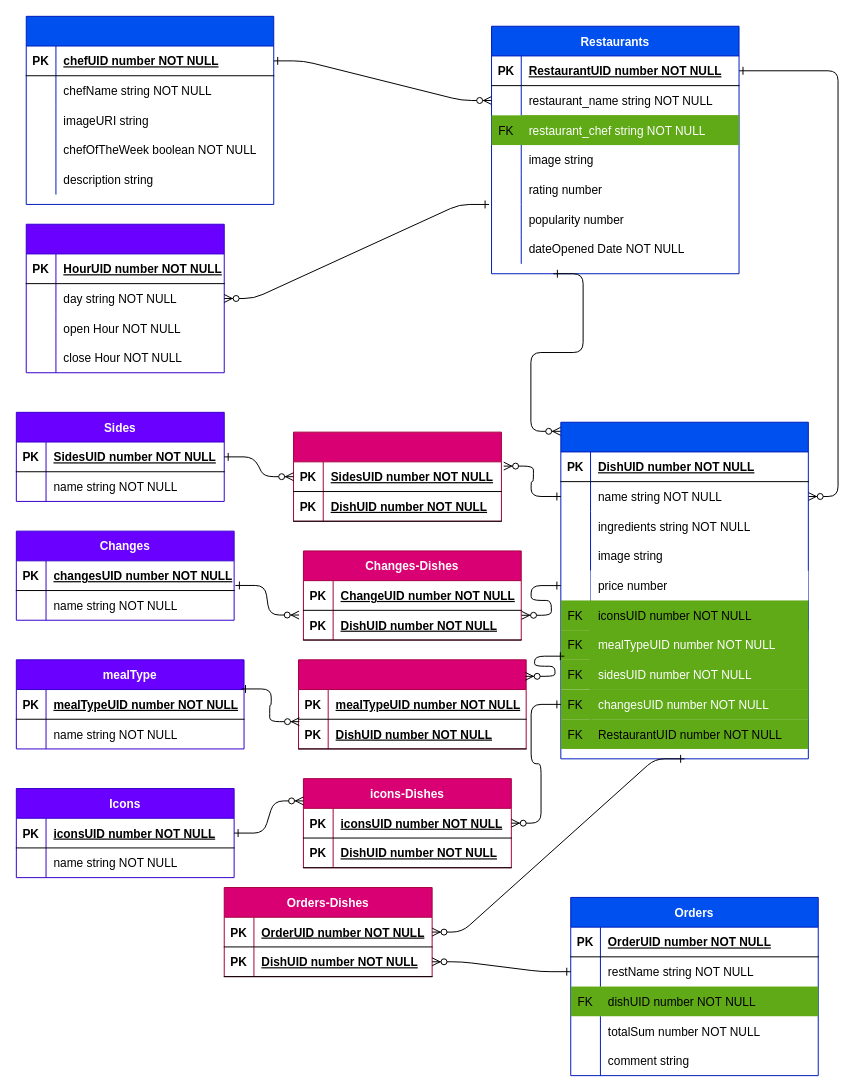
This 854x1092 diagram has some shape labels left out. The box of each missing label's shape, as (x1, y1, x2, y2) in pixels:
Chefs: (25, 15, 274, 204)
Dishes: (560, 421, 808, 759)
mealType-Dishes: (297, 659, 526, 749)
OpeningHours: (25, 223, 224, 373)
Sides-Dishes: (293, 431, 501, 521)
